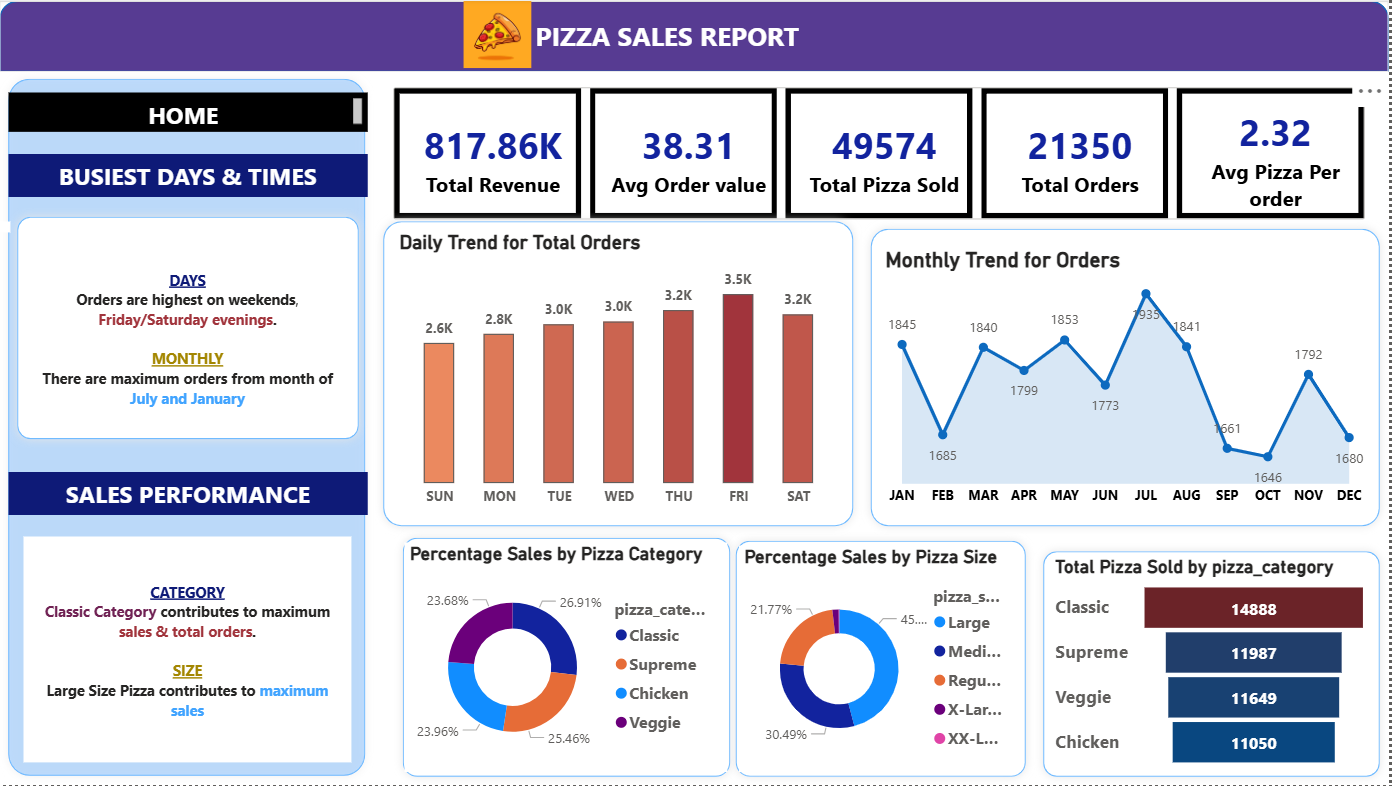

The dashboard page shown, as its layout file describes it:
{"tool":"powerbi","page":{"name":"Page 1","canvas":[1280,720],"ordinal":0},"visuals":[{"type":"cardVisual","fields":{"Data":["pizza_sales.Total Revenue","pizza_sales.Avg Order value","pizza_sales.Total Pizza Sold","pizza_sales.Total Orders","pizza_sales.Avg Pizza Per order"]},"box":[352.7,64.5,927.7,155.1],"z":0},{"type":"shape","box":[9.5,3.2,1271.1,64.7],"z":1000},{"type":"textbox","box":[491.1,12.6,265.3,42.6],"z":2000},{"type":"image","box":[427.9,3.2,74.2,61.6],"z":3000},{"type":"shape","box":[352.7,196.2,446,295.1],"z":4000},{"type":"shape","box":[9.5,66.3,342.6,653.7],"z":5000},{"type":"columnChart","title":"Daily Trend for Total Orders","fields":{"Category":["pizza_sales.Order Day"],"Y":["pizza_sales.Total Orders"]},"box":[370.5,212.7,411.7,260.7],"z":6000},{"type":"shape","box":[798.7,203.1,481.7,288.2],"z":7000},{"type":"textbox","box":[896.1,339,212.7,41.2],"z":8000},{"type":"areaChart","title":"Monthly Trend for Orders","fields":{"Category":["pizza_sales.Order Month"],"Y":["pizza_sales.Total Orders"]},"box":[815.2,227.8,448.8,245.6],"z":9000},{"type":"shape","box":[370.5,485.8,315.6,234.7],"z":10000},{"type":"shape","box":[675.2,488.5,281.3,231.9],"z":11000},{"type":"shape","box":[956.5,498.2,323.9,222.3],"z":12000},{"type":"donutChart","title":"Percentage Sales by Pizza Category","fields":{"Category":["pizza_sales.pizza_category"],"Y":["pizza_sales.Total Revenue"]},"box":[380.1,498.2,295.1,210],"z":13000},{"type":"donutChart","title":"Percentage Sales by Pizza Size","fields":{"Y":["pizza_sales.Total Revenue"],"Category":["pizza_sales.pizza_size"]},"box":[686.2,500.9,256.6,207.2],"z":14000},{"type":"funnel","fields":{"Category":["pizza_sales.pizza_category"],"Y":["pizza_sales.Total Pizza Sold"]},"box":[970.2,510.5,296.4,197.6],"z":15000},{"type":"textbox","box":[17.4,142.1,328.4,39.5],"z":17000},{"type":"shape","box":[17.4,192.6,328.4,219.5],"z":18000},{"type":"textbox","box":[31.6,206.8,300,186.3],"z":19000},{"type":"textbox","box":[17.4,434.2,328.4,39.5],"z":20000},{"type":"textbox","box":[31.6,492.6,300,206.8],"z":21000},{"type":"textbox","box":[17.4,86.8,328.4,36.3],"z":21001}]}

Visuals, with their boxes in screenshot pixels (x1, y1, x2, y2), scaled from the page's 1280x720 canvas onto the 1392x786 screenshot:
cardVisual - pizza_sales.Total Revenue x pizza_sales.Avg Order value: [left=384, top=70, right=1391, bottom=240]
shape: [left=10, top=3, right=1391, bottom=74]
textbox: [left=534, top=14, right=823, bottom=60]
image: [left=465, top=3, right=546, bottom=71]
shape: [left=384, top=214, right=869, bottom=536]
shape: [left=10, top=72, right=383, bottom=785]
"Daily Trend for Total Orders" columnChart: [left=403, top=232, right=851, bottom=517]
shape: [left=869, top=222, right=1391, bottom=536]
textbox: [left=975, top=370, right=1206, bottom=415]
"Monthly Trend for Orders" areaChart: [left=887, top=249, right=1375, bottom=517]
shape: [left=403, top=530, right=746, bottom=785]
shape: [left=734, top=533, right=1040, bottom=785]
shape: [left=1040, top=544, right=1391, bottom=785]
"Percentage Sales by Pizza Category" donutChart: [left=413, top=544, right=734, bottom=773]
"Percentage Sales by Pizza Size" donutChart: [left=746, top=547, right=1025, bottom=773]
funnel - pizza_sales.pizza_category x pizza_sales.Total Pizza Sold: [left=1055, top=557, right=1377, bottom=773]
textbox: [left=19, top=155, right=376, bottom=198]
shape: [left=19, top=210, right=376, bottom=450]
textbox: [left=34, top=226, right=361, bottom=429]
textbox: [left=19, top=474, right=376, bottom=517]
textbox: [left=34, top=538, right=361, bottom=764]
textbox: [left=19, top=95, right=376, bottom=134]
